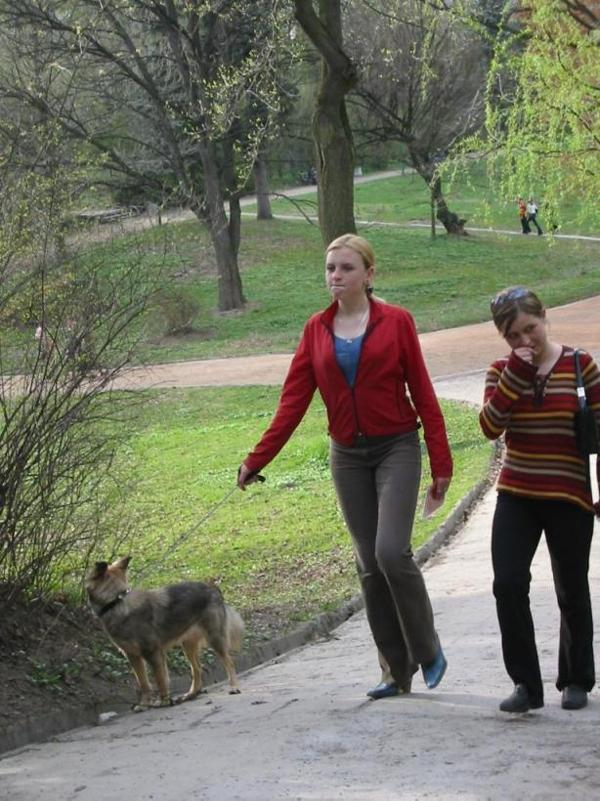person: (235, 236, 450, 695)
